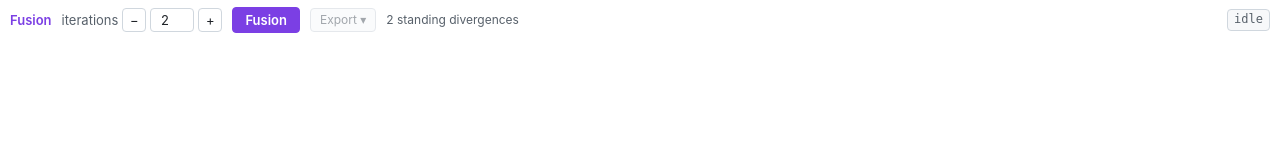
FusionPane: running a stream › an HTTP 409 is shown as an error and nothing is refetched
Click the button with test id "fusion-run" at {"x": 266, "y": 20}, box [232,7,300,33]
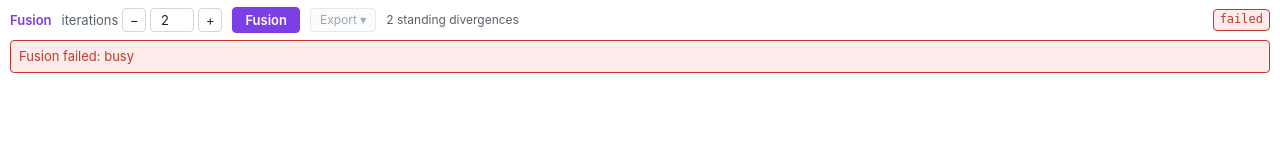
expect the text "Fusion failed: busy" is shown: met, box [10,40,1270,73]
expect the text with test id "fusion-error" shows "busy": met, box [104,48,134,64]
